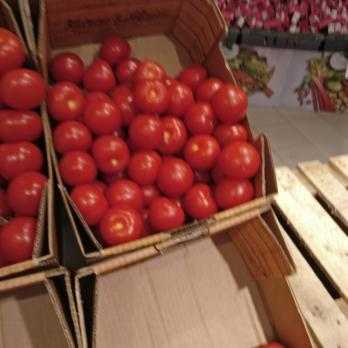Tomato: (49, 35, 253, 222), (2, 29, 38, 265)
